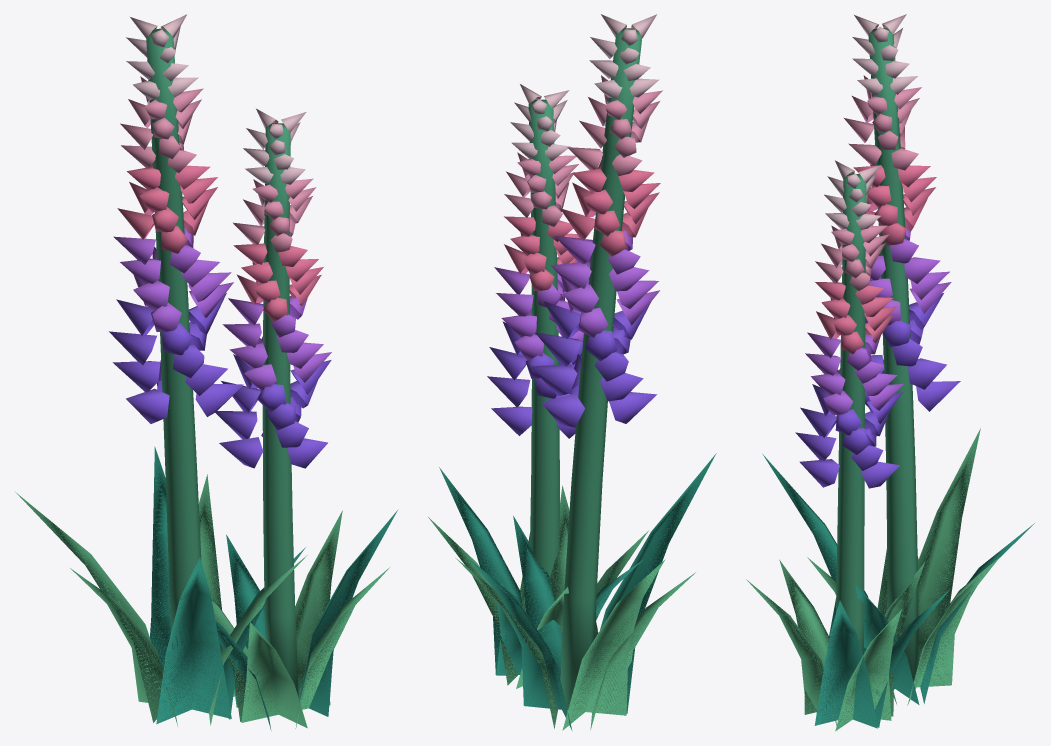
Rendered from verdant_flower_lupine.glb.
3 views of the same model, side by side, from view 1: azimuth 30°, elevation 25°; view 2: azimuth 150°, elevation 25°; view 3: azimuth 270°, elevation 25° (orthographic). The views are drawn at different scales.
Parts seen in each view (by area): view 1: verdant_flower_lupine; view 2: verdant_flower_lupine; view 3: verdant_flower_lupine.
Part boxes in pixels (x1,y1,x2,y2): verdant_flower_lupine: (15,14,398,730); verdant_flower_lupine: (428,14,716,730); verdant_flower_lupine: (746,14,1034,731).
Size of the model in its own units: 0.5695 by 1.25 by 0.5072.
